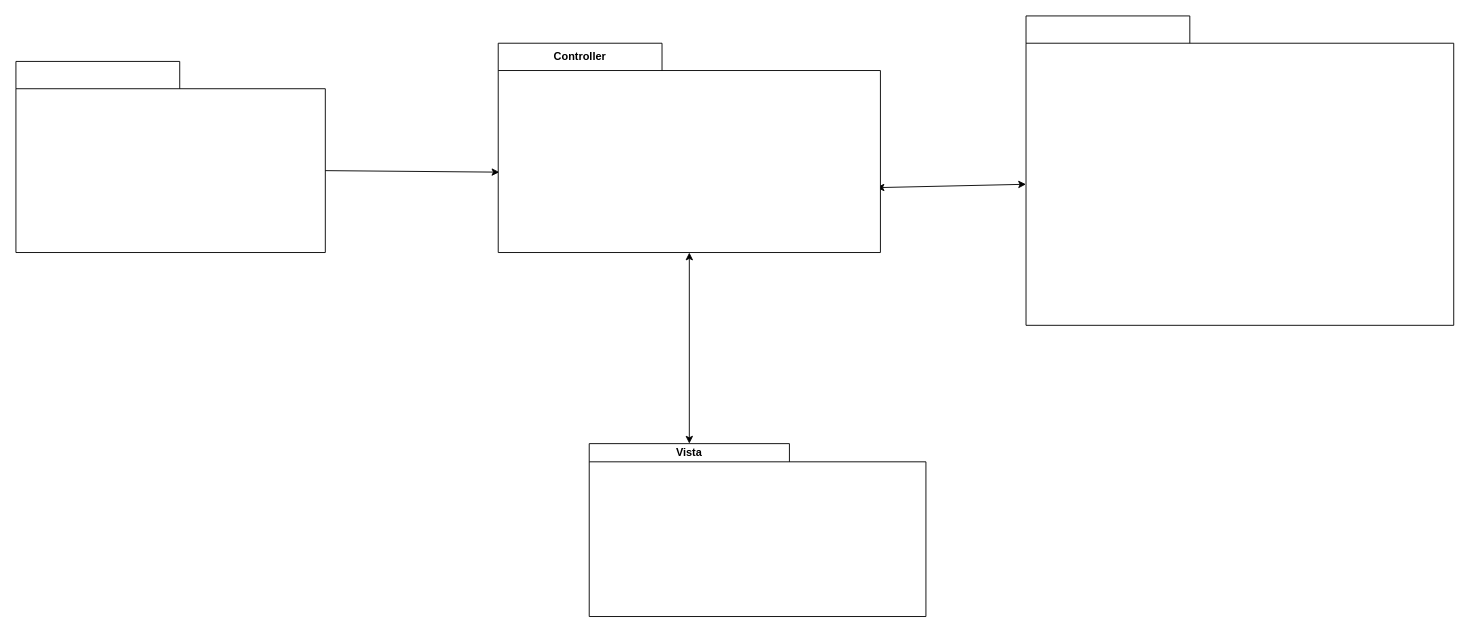
This 1470x632 diagram has some shape labels left out. The box of each missing label's shape, as (x1, y1, x2, y2) in pixels:
Modelo: (1025, 15, 1454, 325)
QueueDoble: (15, 61, 325, 253)
